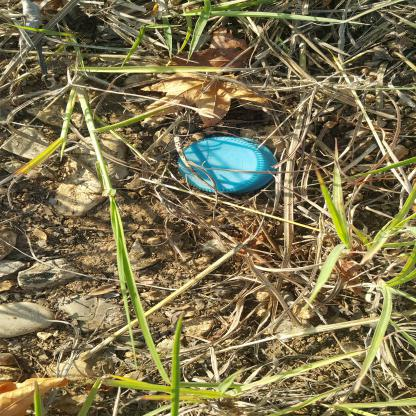plastik: (223, 178, 281, 282)
